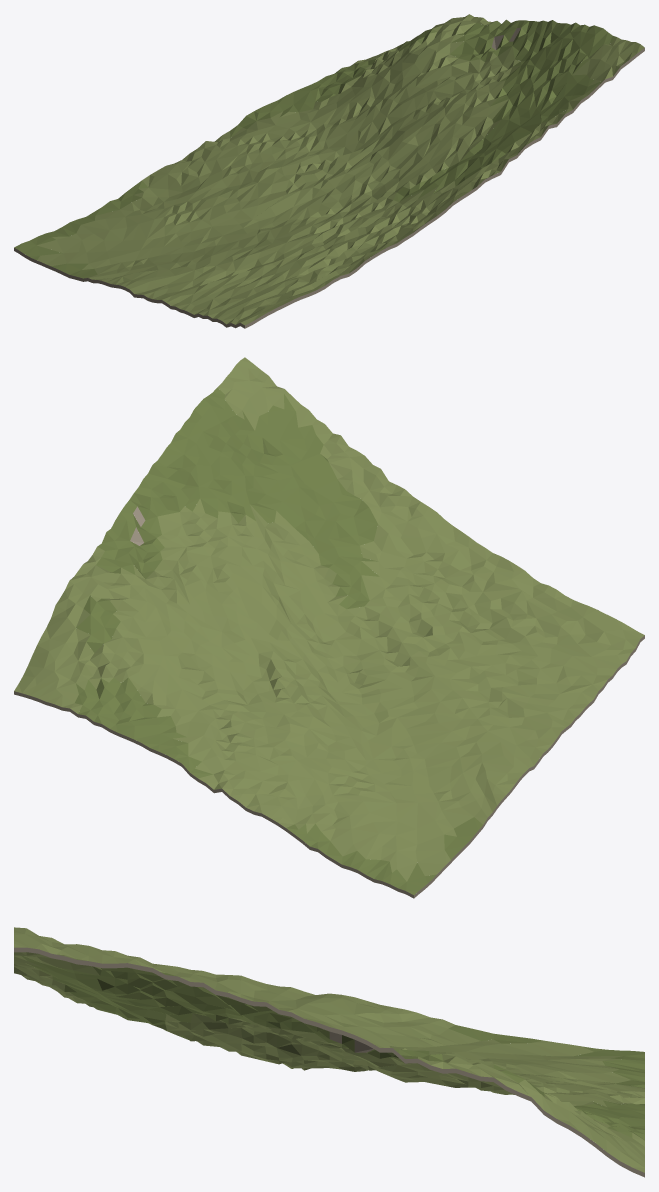
File: parca_+5_-5-uzak.glb
3 renders of one model, top to bottom at view 1: azimuth 30°, elevation 25°; view 2: azimuth 150°, elevation 25°; view 3: azimuth 270°, elevation 25°, orthographic. The views are drawn at different scales.
Visible parts, largest first — view 1: parca_+5_-5_arazi_uzak; view 2: parca_+5_-5_arazi_uzak; view 3: parca_+5_-5_arazi_uzak.
Part boxes in pixels (<box>): parca_+5_-5_arazi_uzak: <box>14,14,644,328</box>; parca_+5_-5_arazi_uzak: <box>14,357,644,898</box>; parca_+5_-5_arazi_uzak: <box>14,927,644,1177</box>.
Bounding box in the file's own units: 1000 × 657 × 1000.
